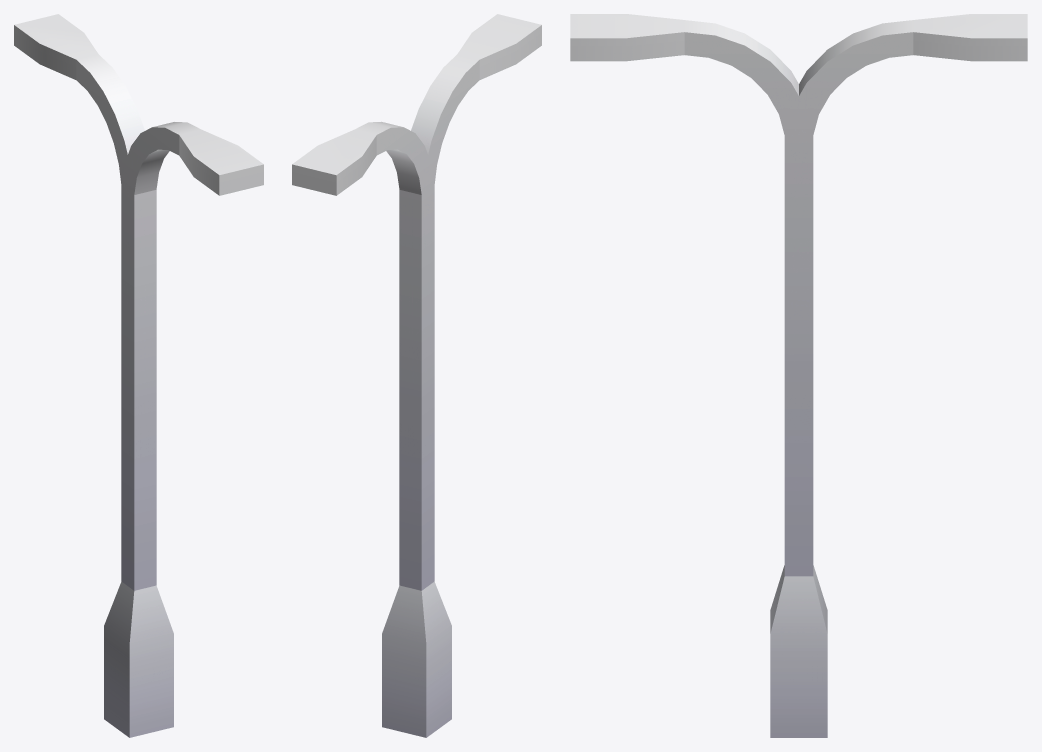
Rendered from light-curved-double.glb.
3 views of the same model, side by side, from view 1: azimuth 30°, elevation 25°; view 2: azimuth 150°, elevation 25°; view 3: azimuth 270°, elevation 25° (orthographic). The views are drawn at different scales.
Parts seen in each view (by area): view 1: light-curved-double; view 2: light-curved-double; view 3: light-curved-double.
Boxes of the visible parts, bbox=[...] form: light-curved-double: bbox=[14, 14, 263, 737]; light-curved-double: bbox=[292, 14, 541, 737]; light-curved-double: bbox=[570, 14, 1027, 737].
Size of the model in its own units: 0.05 by 0.675 by 0.4.
1 material, 1 textured.
